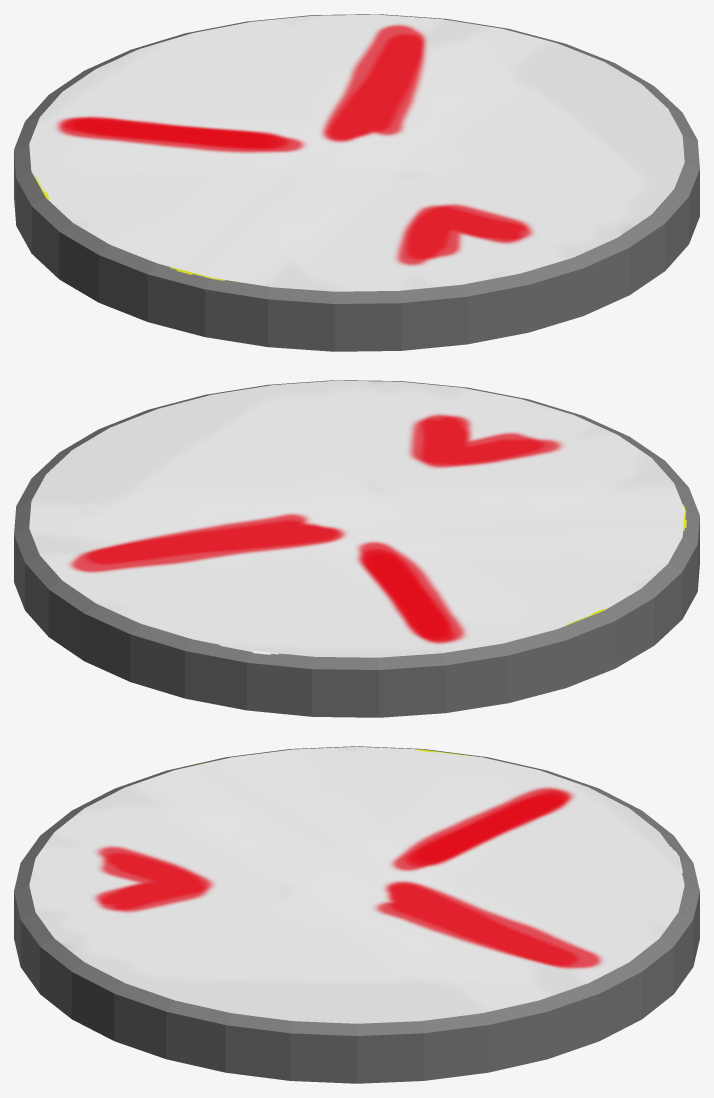
The model's file is coin.fbx.
3 views of the same model, one above another, from view 1: azimuth 30°, elevation 25°; view 2: azimuth 150°, elevation 25°; view 3: azimuth 270°, elevation 25° (orthographic).
Visible parts, largest first — view 1: Cylinder; view 2: Cylinder; view 3: Cylinder.
Part boxes in pixels (bbox=[...]): Cylinder: bbox=[14, 14, 699, 351]; Cylinder: bbox=[14, 380, 699, 717]; Cylinder: bbox=[14, 746, 699, 1083].
Bounding box in the file's own units: 200 × 19.11 × 200.
Materials: 1 (1 with a texture image).
